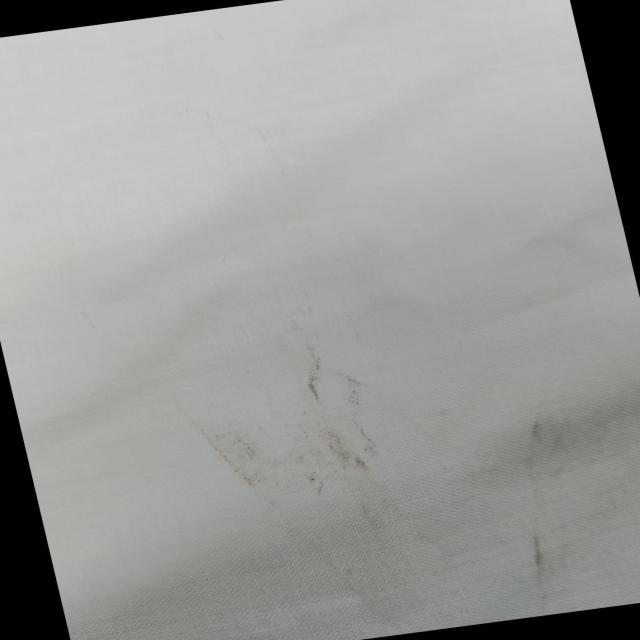stain: (168, 324, 400, 511), (474, 392, 631, 606)
